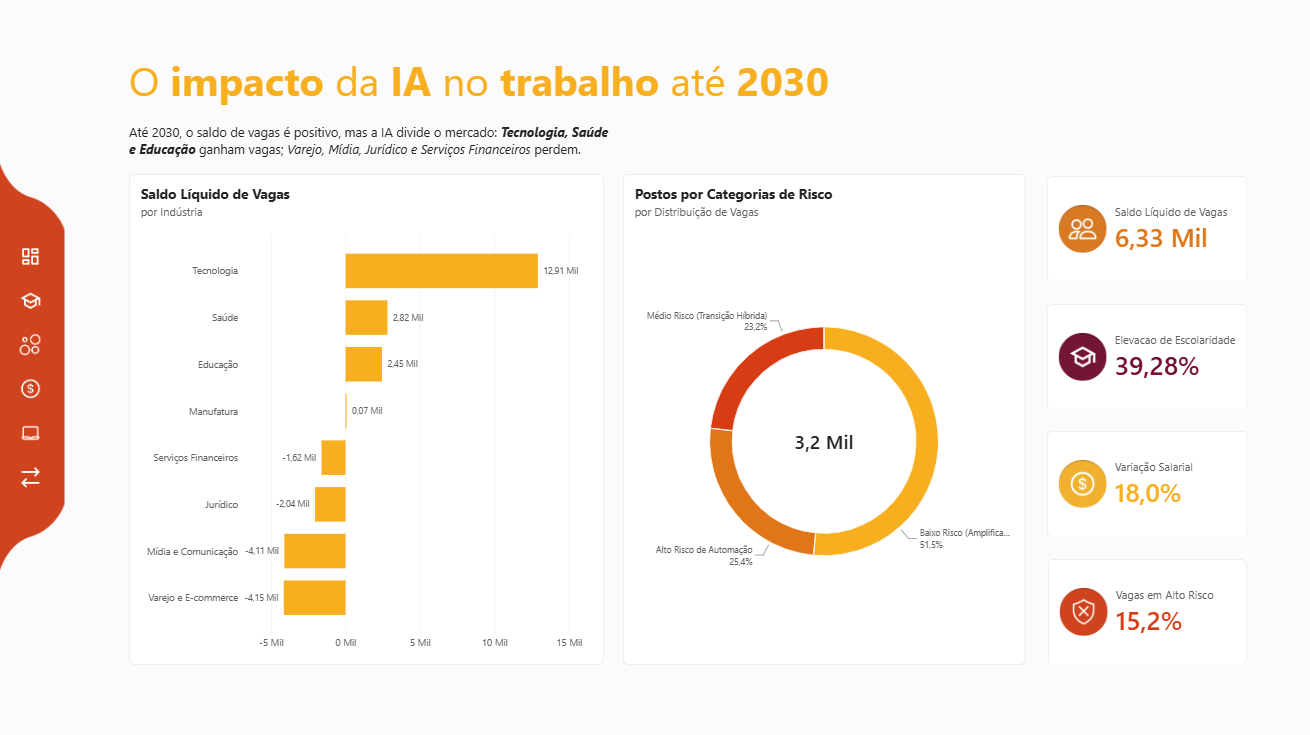

The dashboard page shown, as its layout file describes it:
{"tool":"powerbi","page":{"name":"Impacto da IA no trabalho","canvas":[1920,1080],"ordinal":0},"visuals":[{"type":"image","box":[0,135.9,97.1,811.4],"z":0,"group":"g1"},{"type":"cardVisual","fields":{"Data":["Medidas Volume de Vagas.Saldo Líquido de Vagas"]},"box":[1531.2,260,292,157.3],"z":0},{"type":"actionButton","box":[17.1,417.1,61.4,52.9],"z":1000,"group":"g1"},{"type":"cardVisual","fields":{"Data":["Medidas Volume de Vagas.Variacao_Salarial_%"]},"box":[1531.2,632.4,292,157.3],"z":1000},{"type":"cardVisual","fields":{"Data":["Medidas Volume de Vagas.Taxa_Elevacao_Escolaridade"]},"box":[1531.2,446.2,292,157.3],"z":2000},{"type":"actionButton","box":[17.1,482.8,61.4,52.9],"z":2000,"group":"g1"},{"type":"actionButton","box":[17.1,547.1,61.4,52.9],"z":3000,"group":"g1"},{"type":"cardVisual","fields":{"Data":["Medidas Gerais.% Vagas em Alto Risco"]},"box":[1531.8,818.7,290.7,157.3],"z":3000},{"type":"barChart","fields":{"Category":["dim_setor.Industry"],"Y":["Medidas Gerais.Saldo Líquido de Vagas"]},"box":[190.7,260,693.3,716],"z":4000},{"type":"actionButton","box":[17.1,611.4,61.4,52.9],"z":4000,"group":"g1"},{"type":"donutChart","fields":{"Category":["fato_ai_job_impact.Risk_Category"],"Y":["Medidas Gerais.Postos"]},"box":[912,260,586.7,716],"z":5000},{"type":"actionButton","box":[17.1,674.3,61.4,52.9],"z":5000,"group":"g1"},{"type":"group","id":"g1","title":"Grupo 1","box":[0,135.9,97.1,811.4],"z":6000},{"type":"actionButton","box":[17.1,351.4,61.4,52.9],"z":6000,"group":"g1"},{"type":"textbox","box":[190.7,82.7,1052,89.3],"z":7000},{"type":"textbox","box":[190.7,185.3,706.7,58.7],"z":8000}]}

Visuals, with their boxes in screenshot pixels (x1, y1, x2, y2), scaled from the page's 1920x1080 canvas onto the 1310x735 screenshot:
image: 0/92/66/645
cardVisual - Medidas Volume de Vagas.Saldo Líquido de Vagas: 1045/177/1244/284
actionButton: 12/284/54/320
cardVisual - Medidas Volume de Vagas.Variacao_Salarial_%: 1045/430/1244/537
cardVisual - Medidas Volume de Vagas.Taxa_Elevacao_Escolaridade: 1045/304/1244/411
actionButton: 12/329/54/365
actionButton: 12/372/54/408
cardVisual - Medidas Gerais.% Vagas em Alto Risco: 1045/557/1243/664
barChart - dim_setor.Industry x Medidas Gerais.Saldo Líquido de Vagas: 130/177/603/664
actionButton: 12/416/54/452
donutChart - fato_ai_job_impact.Risk_Category x Medidas Gerais.Postos: 622/177/1023/664
actionButton: 12/459/54/495
"Grupo 1" group: 0/92/66/645
actionButton: 12/239/54/275
textbox: 130/56/848/117
textbox: 130/126/612/166
